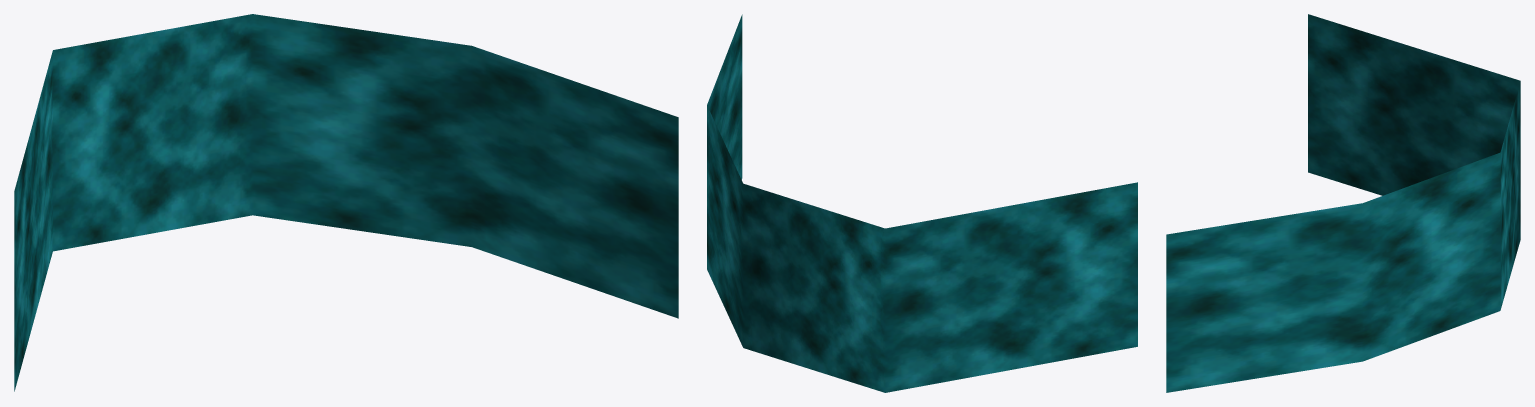
The model's file is MIRKWOOD_FOG01.fbx.
3 views of the same model, side by side, from view 1: azimuth 30°, elevation 25°; view 2: azimuth 150°, elevation 25°; view 3: azimuth 270°, elevation 25° (orthographic). The views are drawn at different scales.
Parts seen in each view (by area): view 1: MIRKWOOD_FOG01; view 2: MIRKWOOD_FOG01; view 3: MIRKWOOD_FOG01.
Part boxes in pixels (x1,y1,x2,y2): MIRKWOOD_FOG01: (14,14,678,391); MIRKWOOD_FOG01: (707,14,1137,392); MIRKWOOD_FOG01: (1166,14,1520,392).
Size of the model in its own units: 247536 by 82905 by 168186.
Materials: 1 (1 with a texture image).
